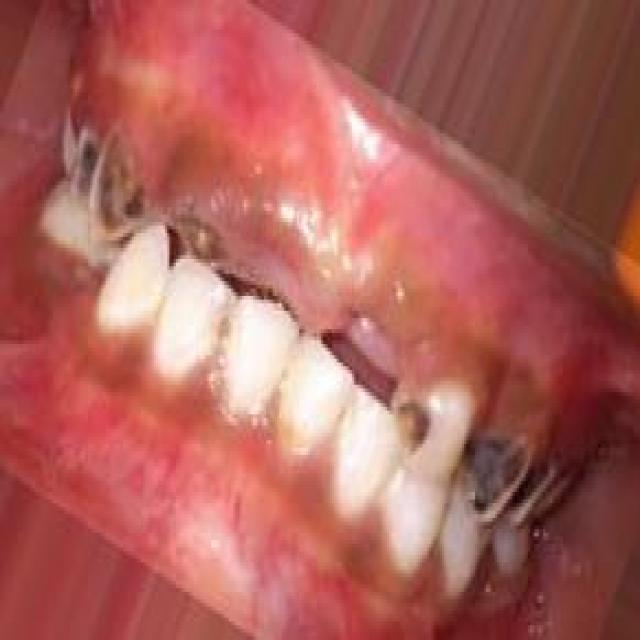caries: (457, 414, 531, 530), (86, 125, 154, 244), (167, 189, 239, 288), (380, 359, 442, 472)
